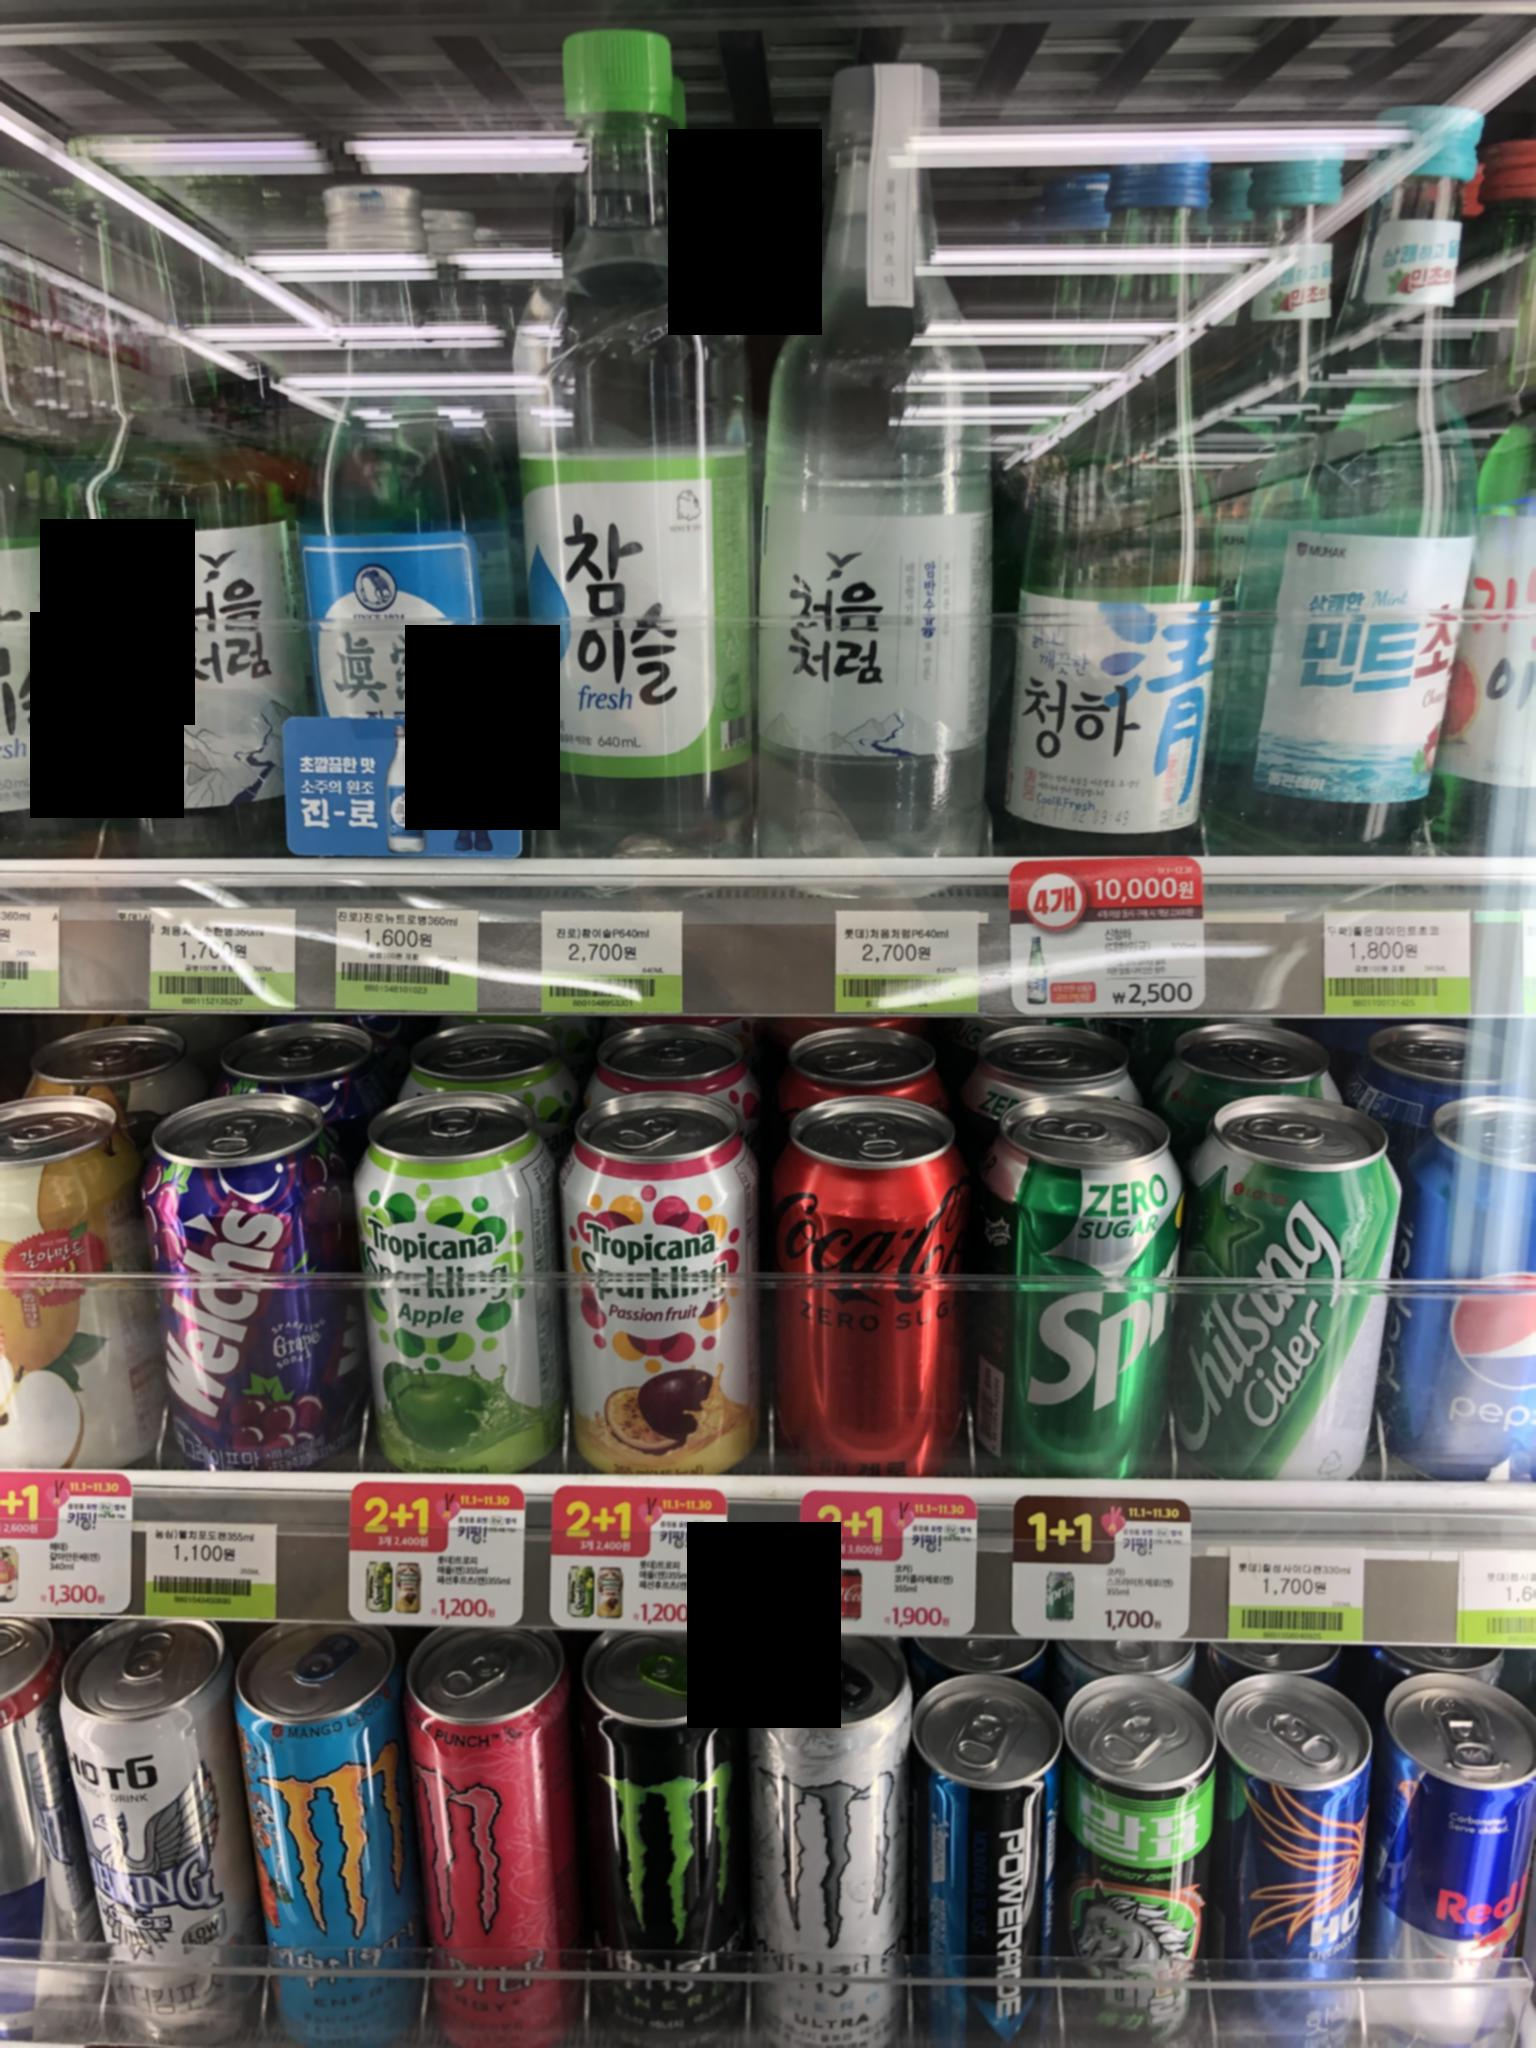chilsungcider: (1205, 1108, 1378, 1477)
welchs_grape: (139, 1142, 374, 1495)
